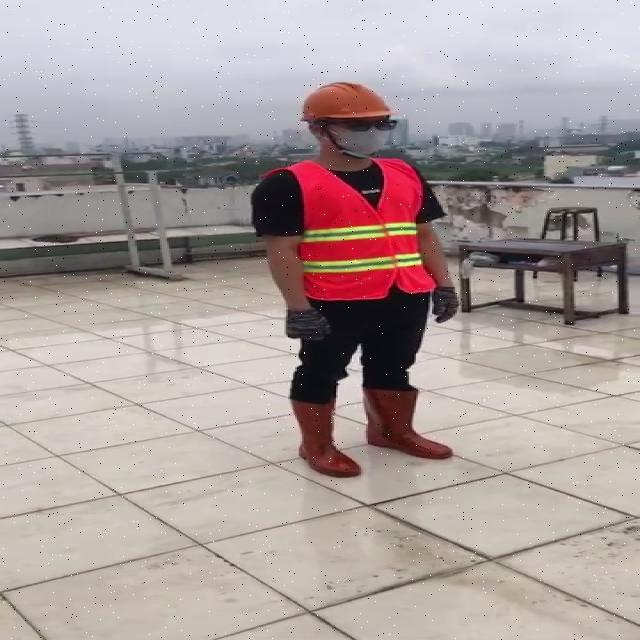Hard_hat: (296, 82, 405, 134)
Vest: (289, 155, 424, 299)
